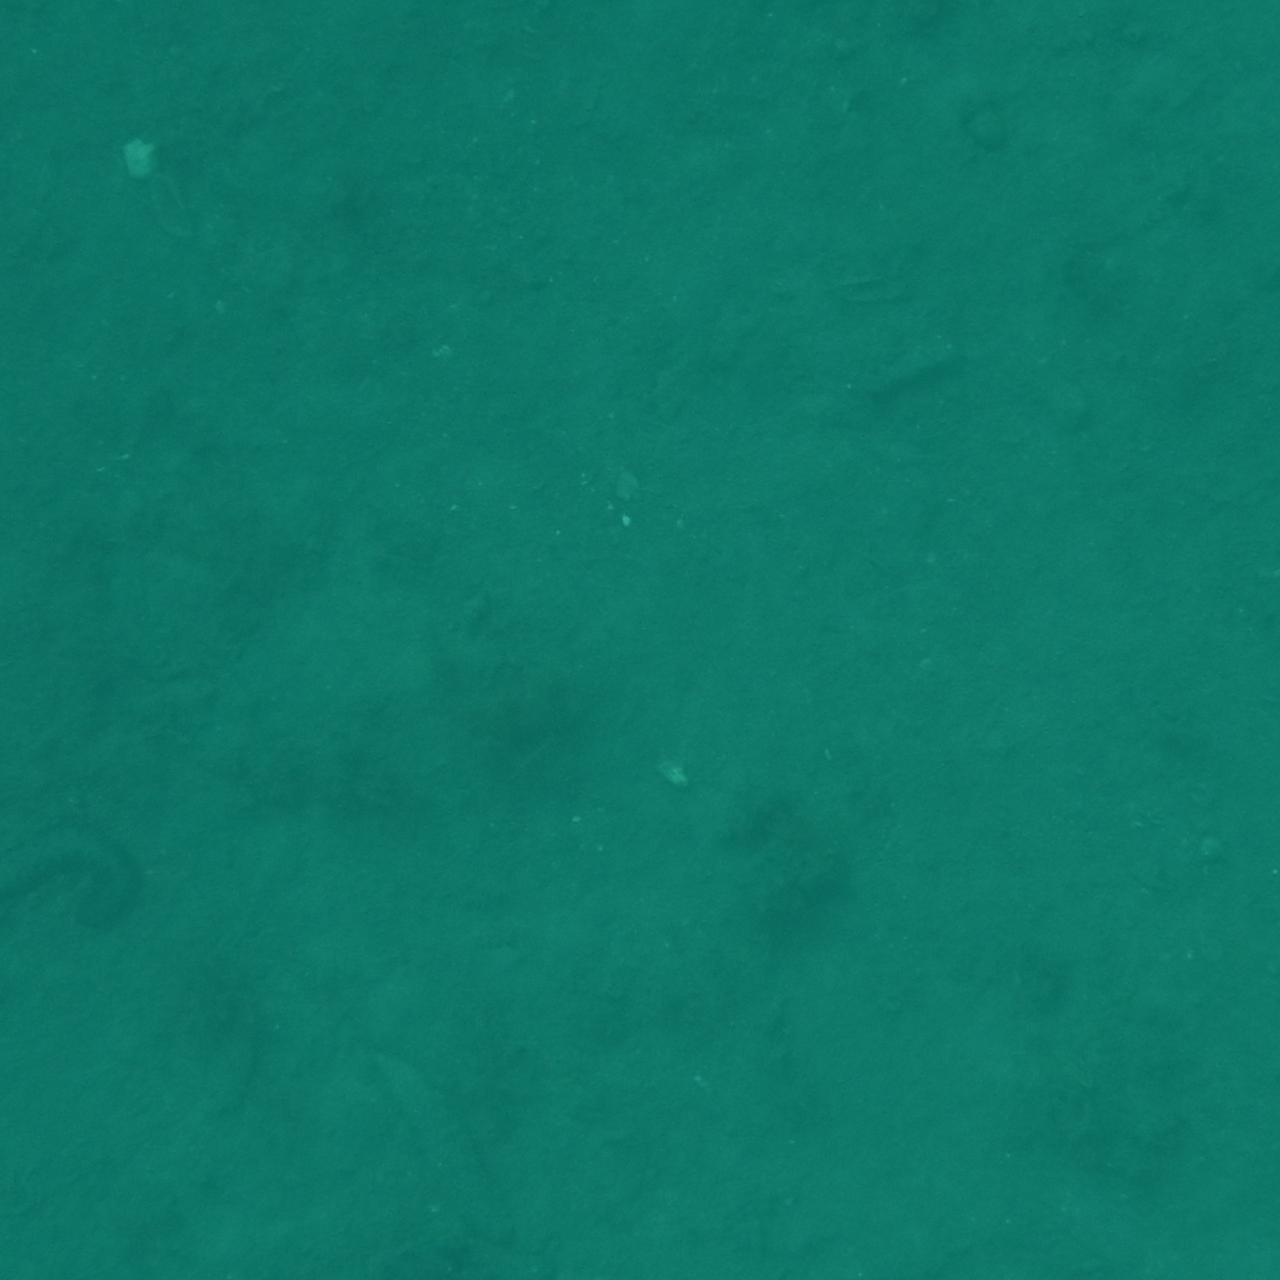Holothuria tubulosa: (368, 1032, 538, 1276), (248, 0, 517, 123), (962, 1185, 1240, 1280), (926, 0, 1162, 101), (0, 813, 170, 948), (1164, 802, 1280, 990), (1136, 307, 1280, 435), (0, 0, 105, 148), (721, 1218, 971, 1280), (377, 1172, 510, 1280), (1094, 523, 1280, 598), (0, 598, 96, 742), (0, 293, 52, 544), (0, 1169, 116, 1280), (0, 0, 144, 82), (1184, 0, 1280, 123), (0, 1205, 128, 1280), (0, 0, 61, 135), (1240, 1082, 1280, 1276), (0, 0, 80, 93), (1193, 0, 1280, 83), (0, 0, 59, 121), (0, 0, 103, 68)
Rifiuto: (0, 1172, 129, 1280)
